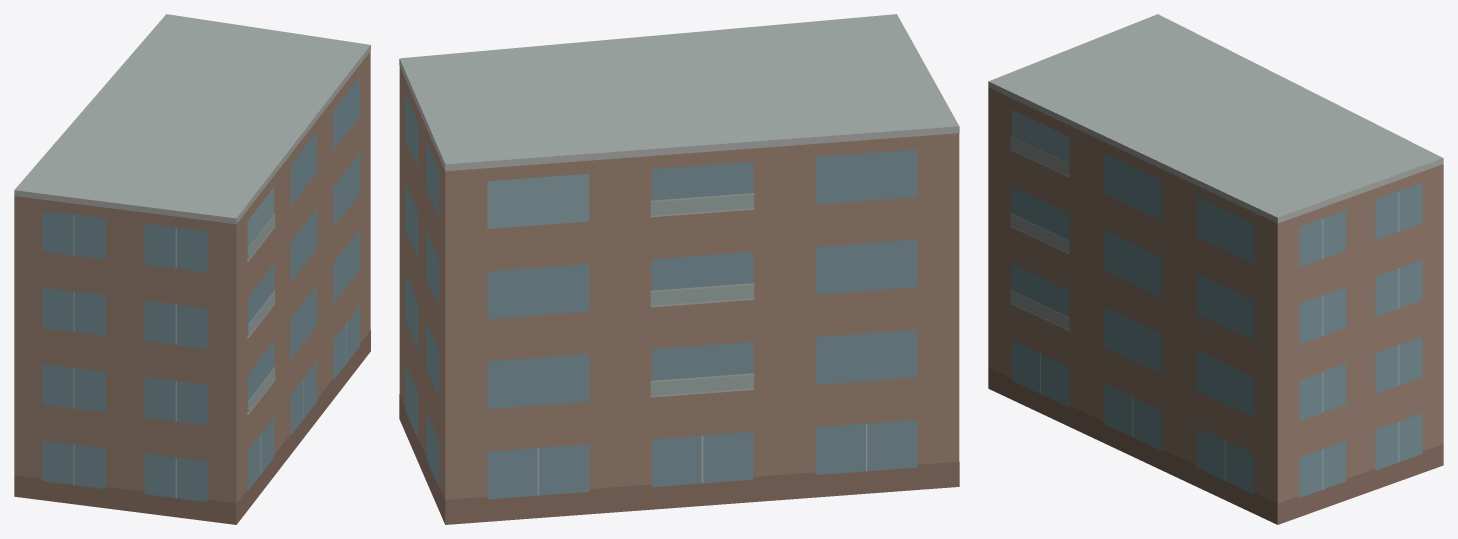
The model's file is survey-upis-32839583.glb.
3 renders of one model, left to right at view 1: azimuth 30°, elevation 25°; view 2: azimuth 150°, elevation 25°; view 3: azimuth 270°, elevation 25°, orthographic. The views are drawn at different scales.
Visible parts, largest first — view 1: survey-upis-32839583.tmp; view 2: survey-upis-32839583.tmp; view 3: survey-upis-32839583.tmp.
Boxes of the visible parts, <box> form: survey-upis-32839583.tmp: <box>14,14,370,524</box>; survey-upis-32839583.tmp: <box>399,14,959,524</box>; survey-upis-32839583.tmp: <box>988,14,1443,524</box>.
Size of the model in its own units: 18.21 by 12.8 by 17.2.
